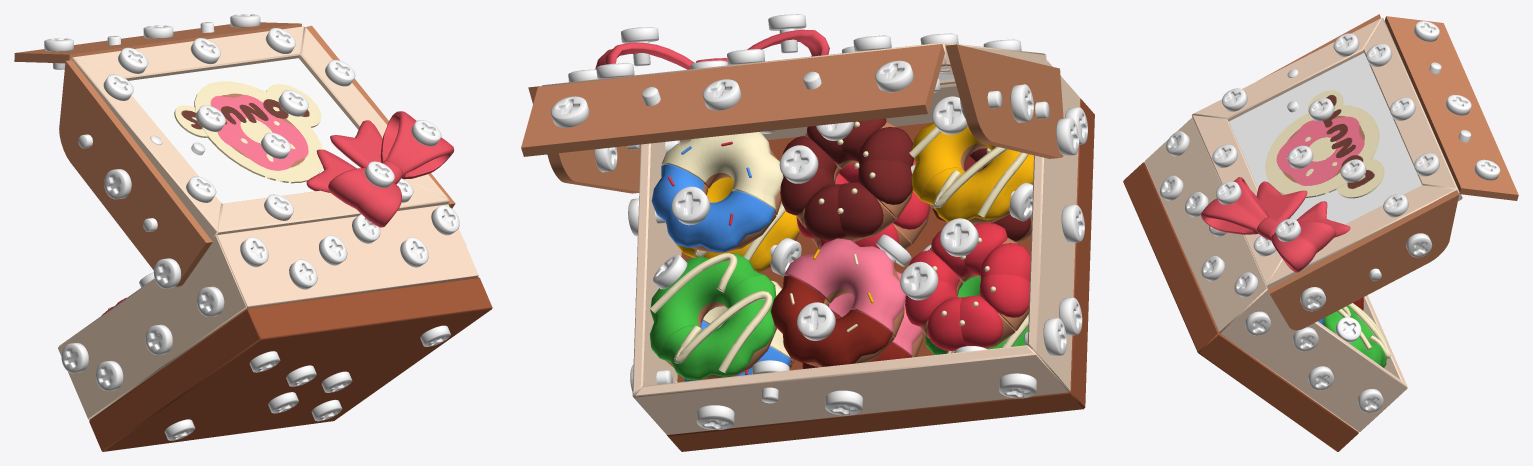
File: DonutsBox_GroupD.fbx
The picture shows the model from 3 angles, left to right: view 1: azimuth 30°, elevation 25°; view 2: azimuth 150°, elevation 25°; view 3: azimuth 270°, elevation 25°; orthographic projection. The views are drawn at different scales.
Parts seen in each view (by area): view 1: DonutsBox.024, Screw (×25), DonutsBox.025, DonutsBox.044, DonutsBox.027, DonutsBox.020, DonutsBox.045, DonutsBox.016, DonutsBox.023, DonutsBox.021, DonutsBox.019, DonutsBox.046 (+2 smaller); view 2: DonutsBox.046, Screw (×24), DonutsBox.026, DonutsBox.024, DonutsBox.044, DonutsBox.027, DonutsBox.035, DonutsBox.038, DonutsBox.017, DonutsBox.036, DonutsBox.033, DonutsBox.039 (+22 smaller); view 3: Screw (×27), DonutsBox.024, DonutsBox.020, DonutsBox.018, DonutsBox.046, DonutsBox.017, DonutsBox.025, DonutsBox.045, DonutsBox.016, DonutsBox.023, DonutsBox.021, DonutsBox.022 (+4 smaller).
Boxes of the visible parts, x1,y1,x2,y2 form: DonutsBox.024: [89, 277, 492, 451]; Screw (×25): [44, 28, 459, 391]; DonutsBox.025: [216, 204, 478, 308]; DonutsBox.044: [59, 60, 212, 287]; DonutsBox.027: [58, 235, 246, 418]; DonutsBox.020: [129, 58, 360, 203]; DonutsBox.045: [174, 81, 322, 183]; DonutsBox.016: [306, 111, 454, 227]; DonutsBox.023: [71, 26, 304, 80]; DonutsBox.021: [71, 58, 221, 239]; DonutsBox.019: [215, 179, 449, 235]; DonutsBox.046: [14, 22, 301, 63]; DonutsBox.046: [521, 44, 944, 156]; Screw (×24): [550, 14, 1084, 429]; DonutsBox.026: [633, 345, 1069, 434]; DonutsBox.024: [667, 98, 1094, 451]; DonutsBox.044: [945, 44, 1063, 158]; DonutsBox.027: [1027, 60, 1079, 390]; DonutsBox.035: [659, 275, 776, 380]; DonutsBox.038: [784, 238, 906, 337]; DonutsBox.017: [632, 142, 681, 433]; DonutsBox.036: [651, 164, 776, 253]; DonutsBox.033: [921, 145, 1033, 224]; DonutsBox.039: [770, 275, 894, 367]; Screw (×27): [1160, 21, 1500, 412]; DonutsBox.024: [1123, 162, 1358, 451]; DonutsBox.020: [1229, 53, 1421, 224]; DonutsBox.018: [1267, 190, 1459, 330]; DonutsBox.046: [1385, 16, 1518, 200]; DonutsBox.017: [1220, 289, 1407, 431]; DonutsBox.025: [1144, 117, 1267, 332]; DonutsBox.045: [1265, 90, 1384, 198]; DonutsBox.016: [1201, 177, 1350, 272]; DonutsBox.023: [1363, 18, 1462, 198]; DonutsBox.021: [1192, 18, 1382, 121]; DonutsBox.022: [1267, 185, 1461, 288].
Size of the model in its own units: 9.84 by 10 by 10.57.
Materials: 4 (2 with a texture image).
